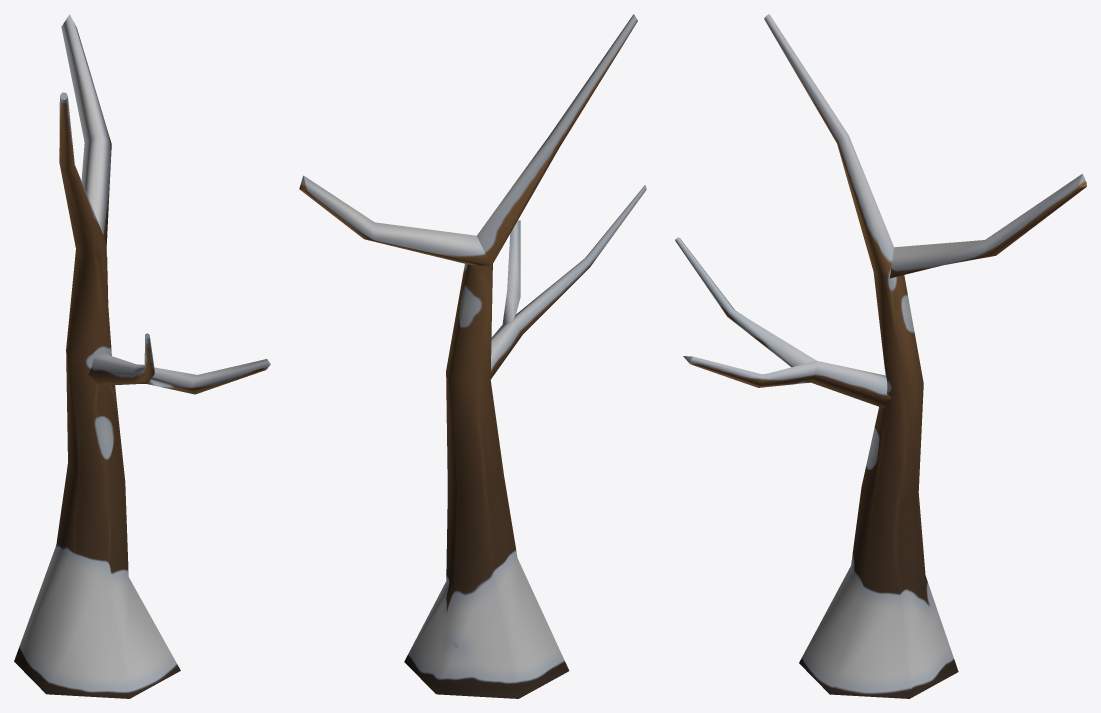
The model's file is Tree_A_1.fbx.
The picture shows the model from 3 angles, left to right: view 1: azimuth 30°, elevation 25°; view 2: azimuth 150°, elevation 25°; view 3: azimuth 270°, elevation 25°; orthographic projection. The views are drawn at different scales.
Parts seen in each view (by area): view 1: Tree_A_1; view 2: Tree_A_1; view 3: Tree_A_1.
Boxes of the visible parts, x1,y1,x2,y2 form: Tree_A_1: (14,14,270,698); Tree_A_1: (299,14,646,698); Tree_A_1: (675,14,1086,698).
Size of the model in its own units: 59.55 by 204 by 125.
Materials: 1 (1 with a texture image).
